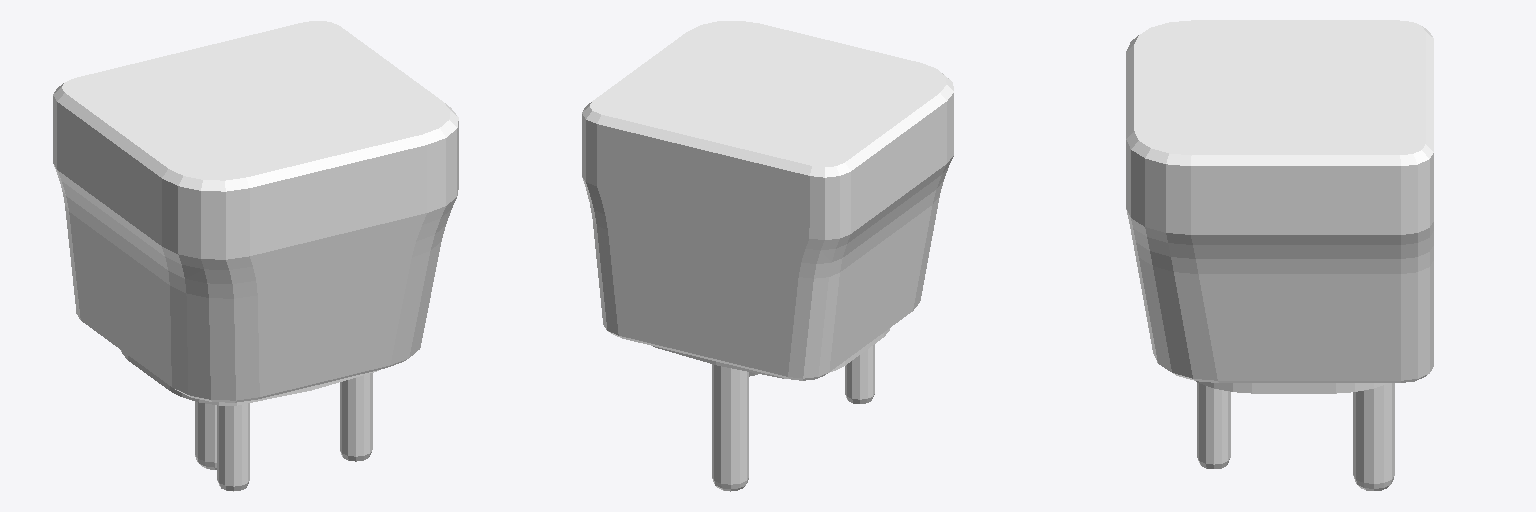
URDF robot description (Plug_India):
<?xml version="1.0" ?>
<robot name="Plug_India">
 <link name="baseLink">
   <contact>
     <lateral_friction value="0.5"/>
   </contact>
   <inertial>
     <origin rpy="0 0 0" xyz="0.0 0.0 0.0"/>
      <mass value="1.0"/>
      <inertia ixx="0" ixy="0" ixz="0" iyy="0" iyz="0" izz="0"/>
   </inertial>
   <visual>
     <origin rpy="0 0 0" xyz="0 0 0"/>
     <geometry>
       <mesh filename="package://bopt_gmm/objects/electrical_plugs/Plug_India.obj" scale="1.0 1.0 1.0"/>
     </geometry>
      <material name="white">
       <color rgba="1 1 1 1"/>
     </material>
   </visual>
   <collision>
     <origin rpy="0 0 0" xyz="0 0 0"/>
     <geometry>
       <mesh filename="package://bopt_gmm/objects/electrical_plugs/Plug_India_vhacd2.obj" scale="1.0 1.0 1.0"/>
     </geometry>
   </collision>
 </link>
</robot>

--- Facts derived from the render (not from the file) ---
3 views of the same robot in one strip: view 1: azimuth 30°, elevation 25°; view 2: azimuth 150°, elevation 25°; view 3: azimuth 270°, elevation 25° (orthographic).
Robot: Plug_India — 1 links, 0 joints (none); root link baseLink; default pose: all joints at 0.
Visible links, largest first — view 1: baseLink; view 2: baseLink; view 3: baseLink.
Boxes of the visible links, left/top/right/bottom form: baseLink: left=53, top=21, right=458, bottom=491; baseLink: left=582, top=21, right=953, bottom=491; baseLink: left=1126, top=20, right=1433, bottom=490.
Bounding box of the posed robot: 0.06 × 0.055 × 0.0786 m (x, y, z).
Meshes: 1 distinct files referenced, 1 mesh visuals loaded (1 OBJ).